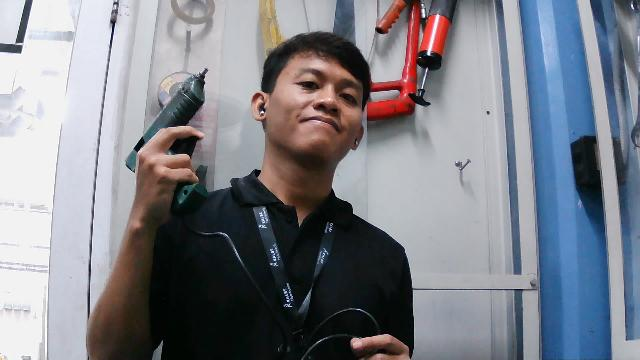gun_lem: (120, 63, 228, 218)
